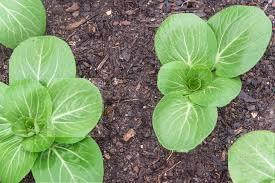Healthy-Pechay: (136, 7, 275, 149), (0, 39, 105, 182), (204, 119, 275, 183), (0, 0, 60, 43)
